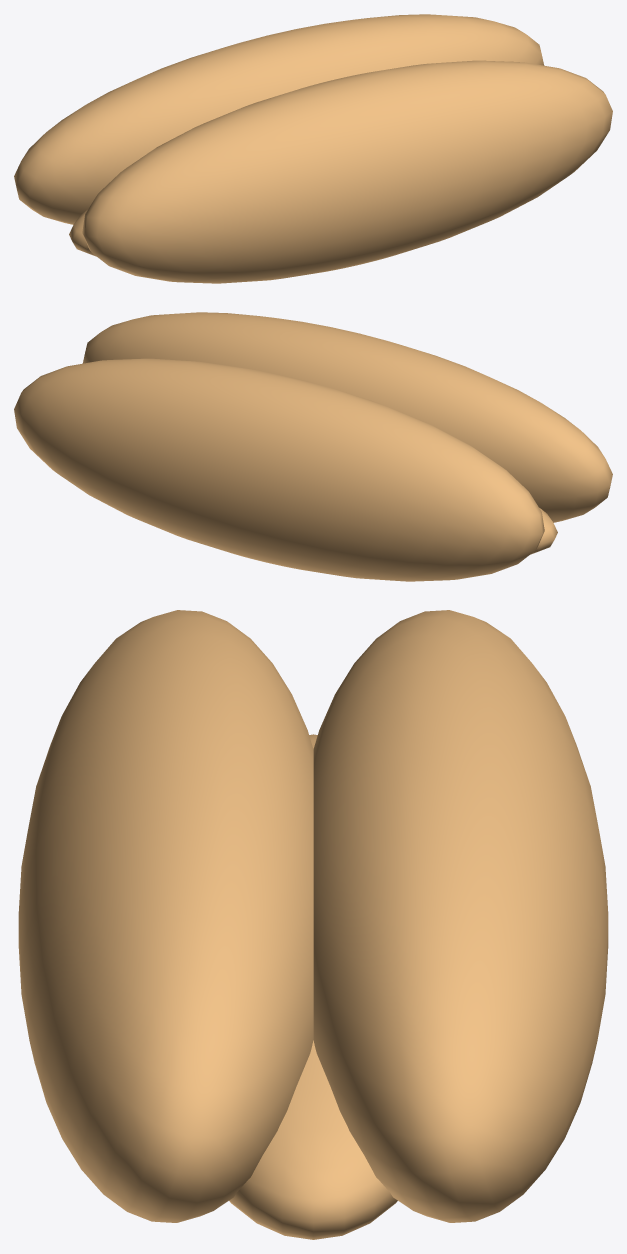
The model's file is bun.glb.
The picture shows the model from 3 angles, top to bottom: view 1: azimuth 30°, elevation 25°; view 2: azimuth 150°, elevation 25°; view 3: azimuth 270°, elevation 25°; orthographic projection. The views are drawn at different scales.
Parts seen in each view (by area): view 1: Bun; view 2: Bun; view 3: Bun.
Boxes of the visible parts, x1,y1,x2,y2 form: Bun: (14, 14, 612, 283); Bun: (14, 312, 612, 581); Bun: (18, 610, 608, 1239).
Size of the model in its own units: 3.74 by 1.14 by 1.82.
